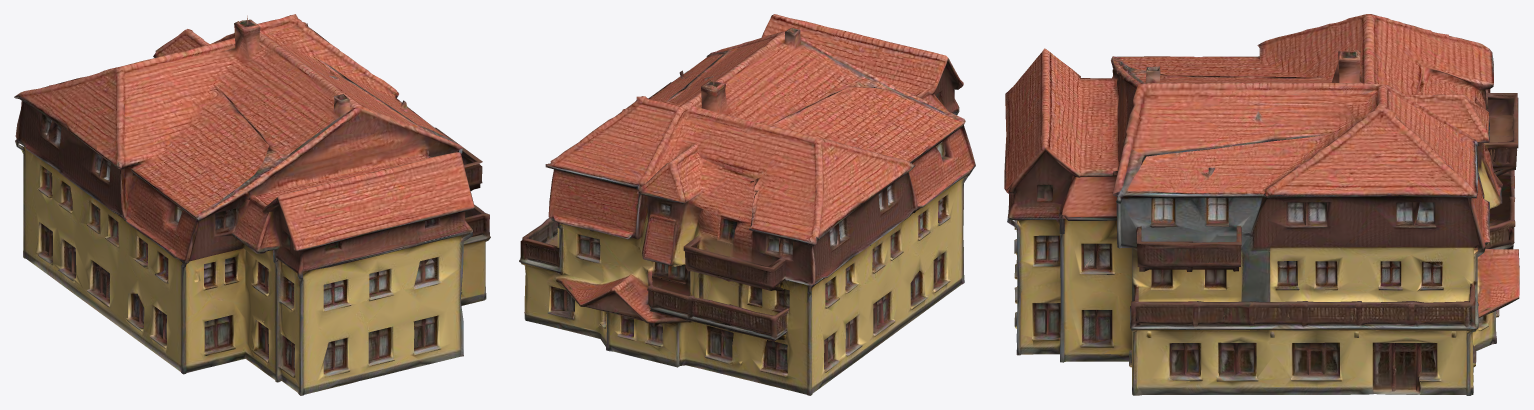
The model's file is hubertusbaude.glb.
The picture shows the model from 3 angles, left to right: view 1: azimuth 30°, elevation 25°; view 2: azimuth 150°, elevation 25°; view 3: azimuth 270°, elevation 25°; orthographic projection. The views are drawn at different scales.
Parts seen in each view (by area): view 1: tripo_node_037ac8fa-3f3f-4278-9b8a-ea324220e97a; view 2: tripo_node_037ac8fa-3f3f-4278-9b8a-ea324220e97a; view 3: tripo_node_037ac8fa-3f3f-4278-9b8a-ea324220e97a.
Boxes of the visible parts, x1,y1,x2,y2 form: tripo_node_037ac8fa-3f3f-4278-9b8a-ea324220e97a: (14, 14, 490, 395); tripo_node_037ac8fa-3f3f-4278-9b8a-ea324220e97a: (519, 14, 975, 395); tripo_node_037ac8fa-3f3f-4278-9b8a-ea324220e97a: (1004, 14, 1519, 395).
Size of the model in its own units: 0.7834 by 0.5888 by 1.
1 material, 1 textured.
